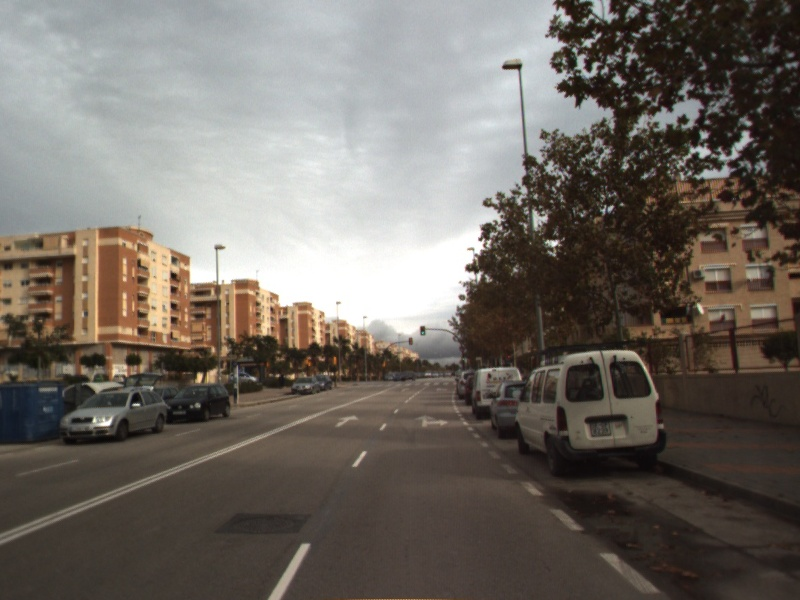STRAIGHT: (332, 413, 361, 429)
STRAIGHT_RIGHT: (412, 412, 451, 429)
